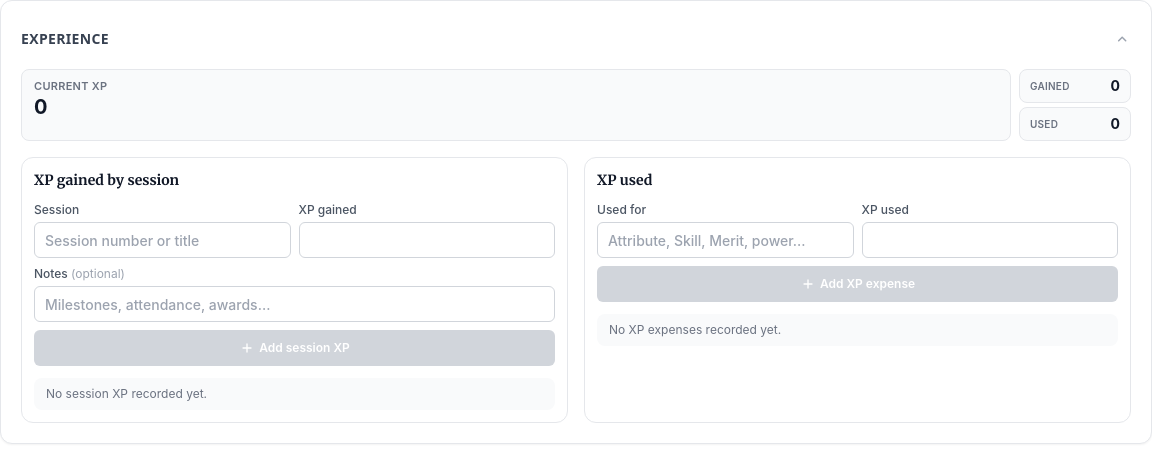
Test case: experience section › records session gains and expenses while keeping totals in sync
Type "Session 12" into the field labelled "Session" at coordinates (162, 240), box [34,222,290,258]
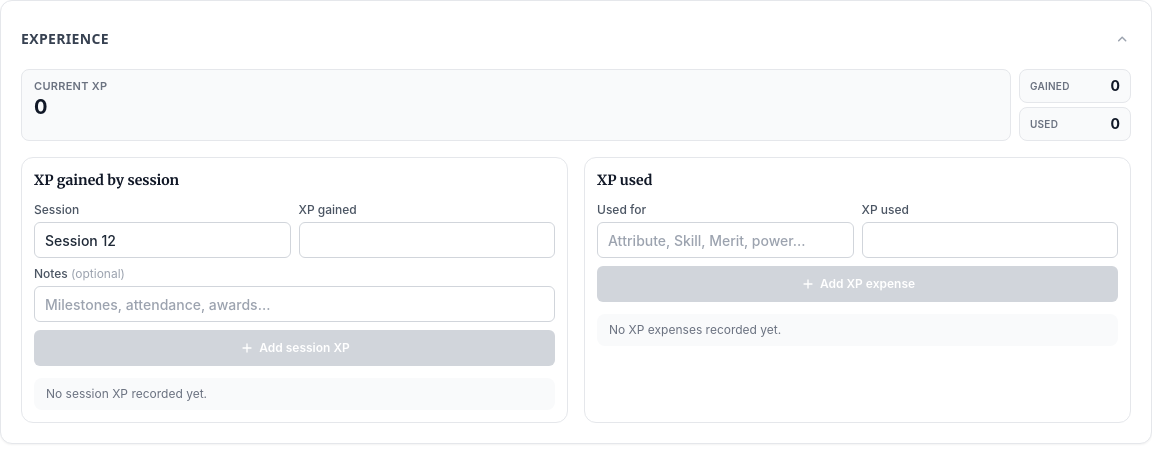
Type "5" into the number field labelled "XP gained" at coordinates (427, 240), box [298,222,555,258]
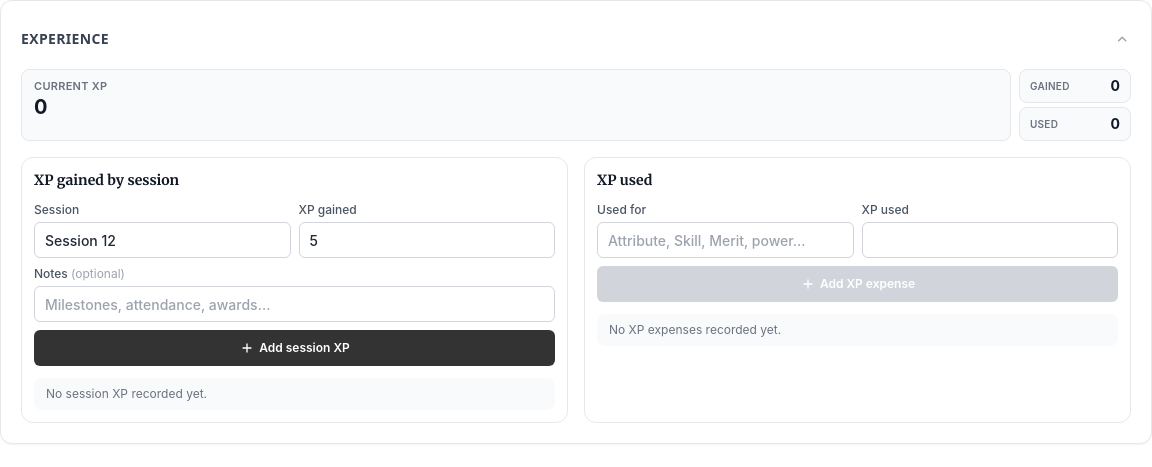
Click the button "Add session XP" at coordinates (294, 348), box [34,330,555,366]
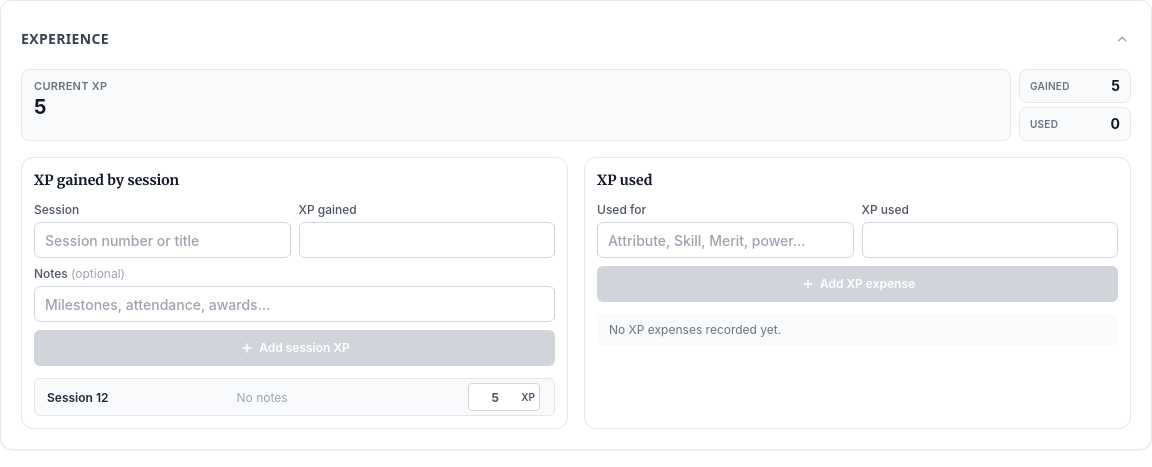
Type "Academics 3" into the field named "XP used for" at coordinates (725, 240), box [597,222,854,258]
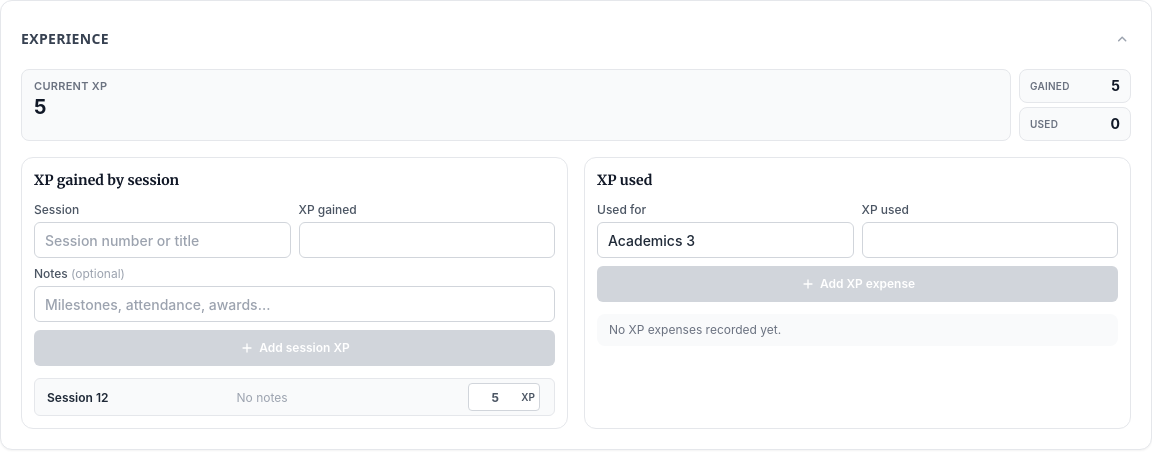
Type "2" into the number field labelled "XP used" at coordinates (990, 240), box [862,222,1118,258]
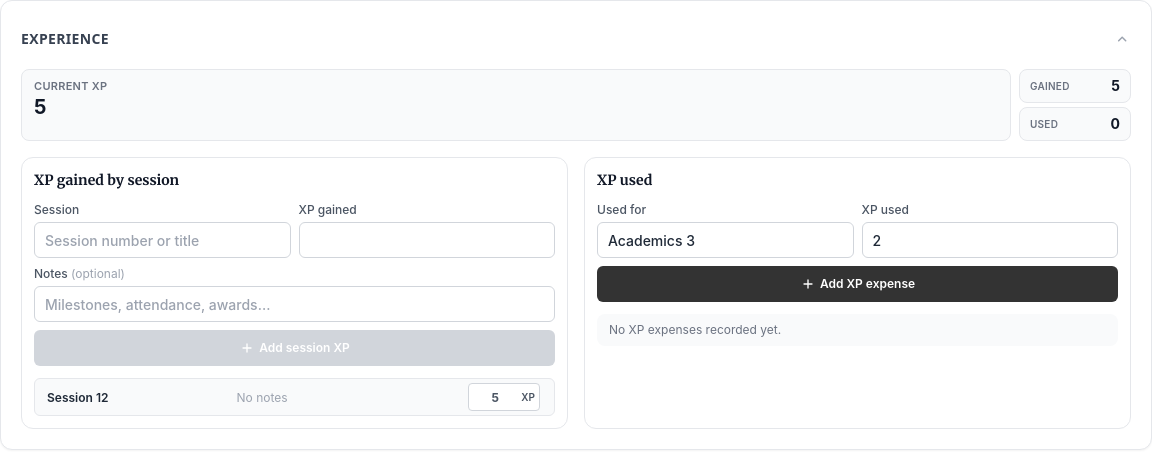
Click the button "Add XP expense" at coordinates (858, 284), box [597,266,1118,302]
Wait 400 ms
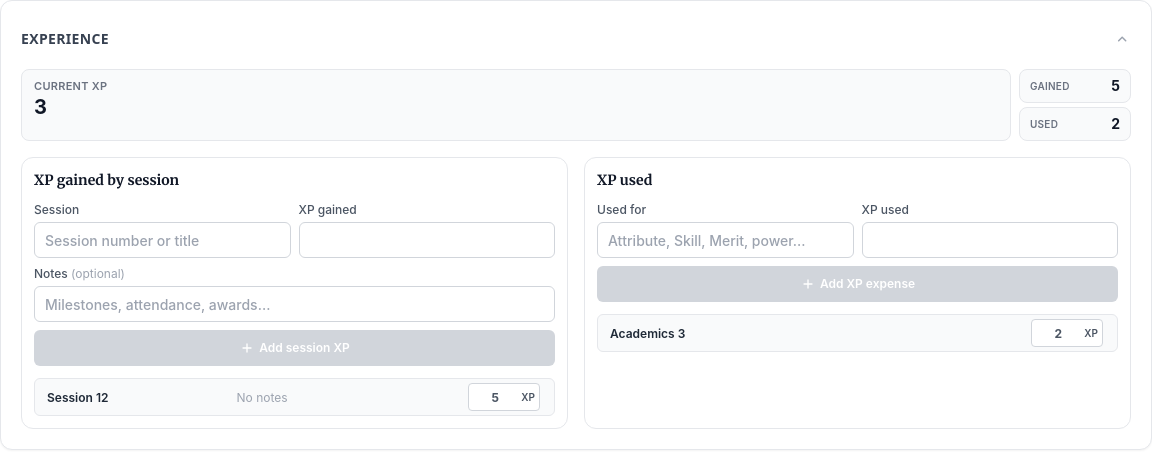
Expected: the field showing "Session 12" is disabled, [43,383,226,411]
Expected: the field showing "Academics 3" is disabled, [606,319,1025,347]
